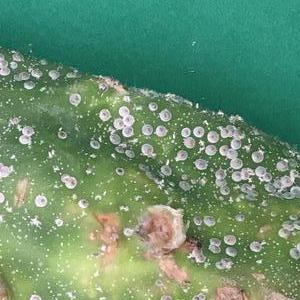Femea: (193, 127, 203, 137), (215, 169, 226, 178), (222, 235, 234, 243), (37, 196, 47, 205), (227, 147, 236, 157), (252, 152, 261, 161), (57, 130, 66, 139), (195, 158, 204, 167), (143, 145, 151, 155), (209, 132, 217, 141), (155, 126, 164, 134), (66, 179, 75, 187), (19, 135, 28, 143), (231, 140, 239, 149), (180, 128, 189, 136), (183, 138, 192, 146), (120, 107, 130, 114), (219, 146, 226, 156), (123, 115, 131, 123), (100, 111, 108, 119), (142, 125, 150, 133), (207, 145, 215, 153), (23, 128, 32, 135), (232, 172, 241, 179), (226, 248, 235, 255), (115, 167, 122, 176), (122, 127, 131, 134), (177, 151, 186, 158), (235, 215, 243, 222), (216, 179, 224, 186), (61, 174, 69, 181), (79, 199, 87, 206), (220, 187, 228, 193), (263, 173, 269, 180)
Linfa: (52, 223, 59, 235), (266, 240, 272, 253), (35, 266, 45, 273), (53, 180, 62, 187), (33, 273, 40, 280), (211, 161, 217, 167), (202, 119, 208, 125), (219, 161, 225, 165), (39, 242, 43, 247), (45, 247, 50, 251), (207, 156, 211, 159), (217, 156, 220, 159)
Macho: (48, 149, 55, 158), (164, 157, 169, 166), (228, 196, 233, 205), (170, 131, 175, 139), (194, 102, 199, 108)
